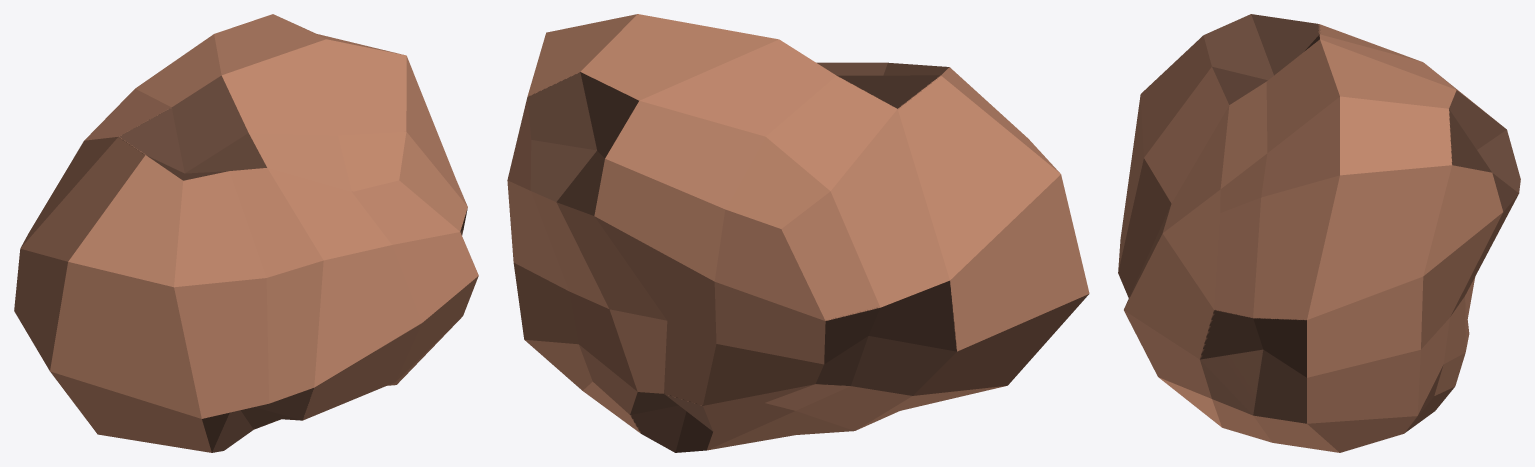
File: meteor1.fbx
The picture shows the model from 3 angles, left to right: view 1: azimuth 30°, elevation 25°; view 2: azimuth 150°, elevation 25°; view 3: azimuth 270°, elevation 25°; orthographic projection. The views are drawn at different scales.
Visible parts, largest first — view 1: Cube; view 2: Cube; view 3: Cube.
Boxes of the visible parts, box(x1,y1,x2,y2) form: Cube: box(14, 14, 478, 452); Cube: box(507, 14, 1089, 452); Cube: box(1118, 14, 1520, 452).
Size of the model in its own units: 436 by 306 by 316.
